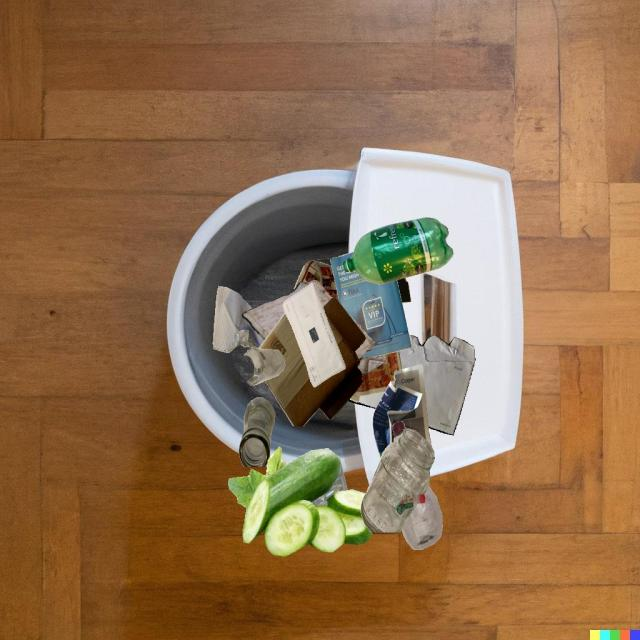biowaste: (228, 446, 372, 557)
cardboard: (265, 368, 363, 426), (286, 287, 346, 375), (323, 297, 366, 379), (253, 349, 286, 368), (397, 278, 411, 303)
glass: (361, 428, 435, 533), (239, 397, 275, 467), (244, 348, 286, 386)
paper: (330, 252, 411, 359), (399, 335, 475, 435), (283, 282, 346, 387), (373, 365, 432, 458), (242, 280, 332, 340), (213, 286, 264, 353), (349, 351, 402, 402), (349, 315, 386, 375), (293, 260, 340, 303)
plastic: (343, 217, 454, 284), (400, 430, 429, 517), (412, 482, 443, 550), (311, 460, 348, 506), (395, 491, 425, 516)
